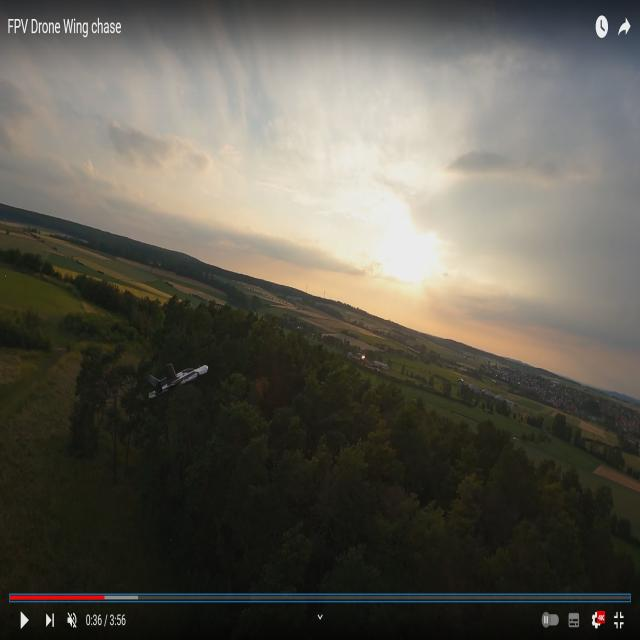iha: (147, 364, 210, 397)
